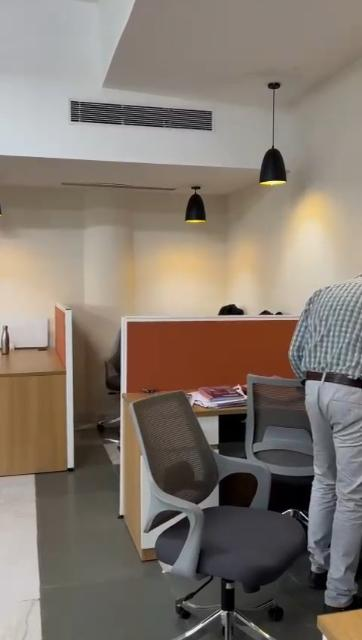floor: (0, 449, 179, 640)
moving-obj: (246, 290, 362, 590)
object: (128, 394, 252, 640), (242, 374, 308, 584), (2, 314, 16, 364)
wall: (0, 56, 362, 306)
